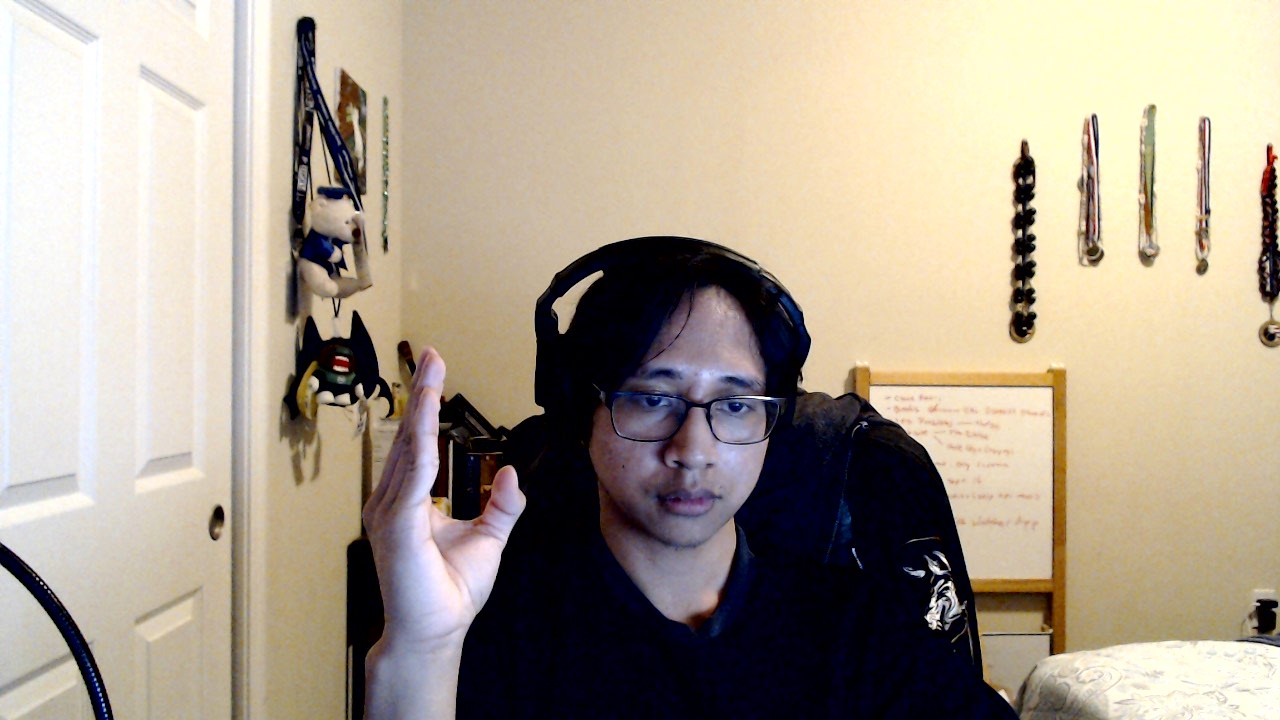j: (361, 345, 528, 635)
